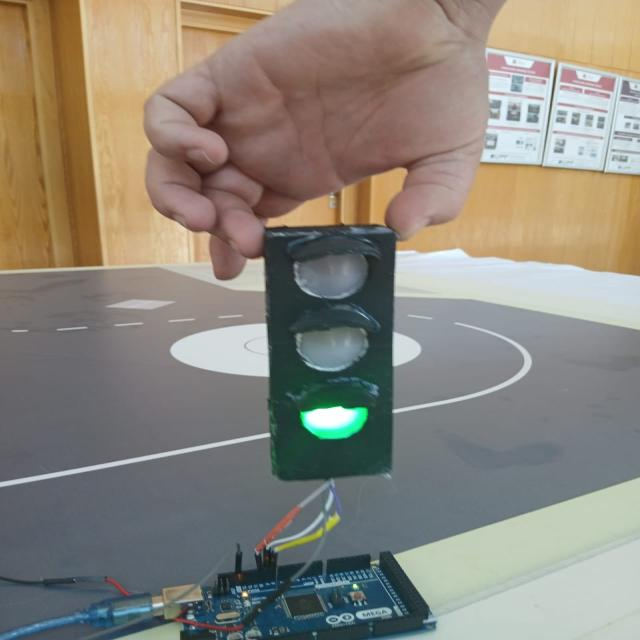green: (300, 406, 368, 440)
trafic lights: (263, 225, 395, 481)
